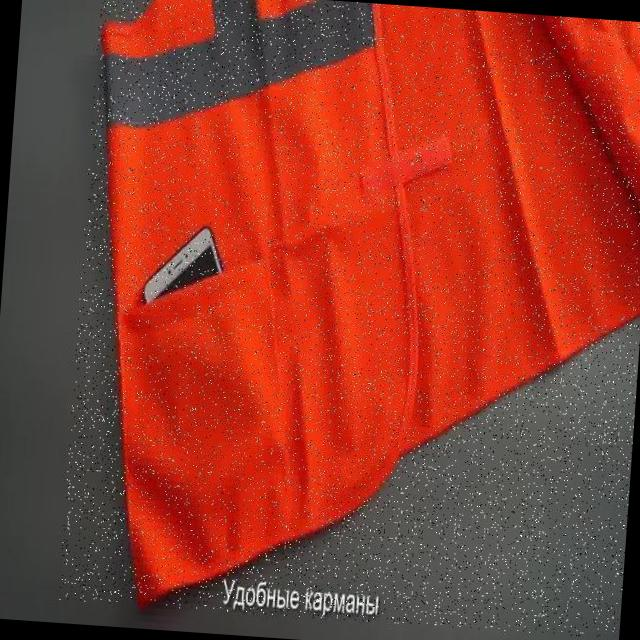safety_vest: (57, 0, 640, 638)
